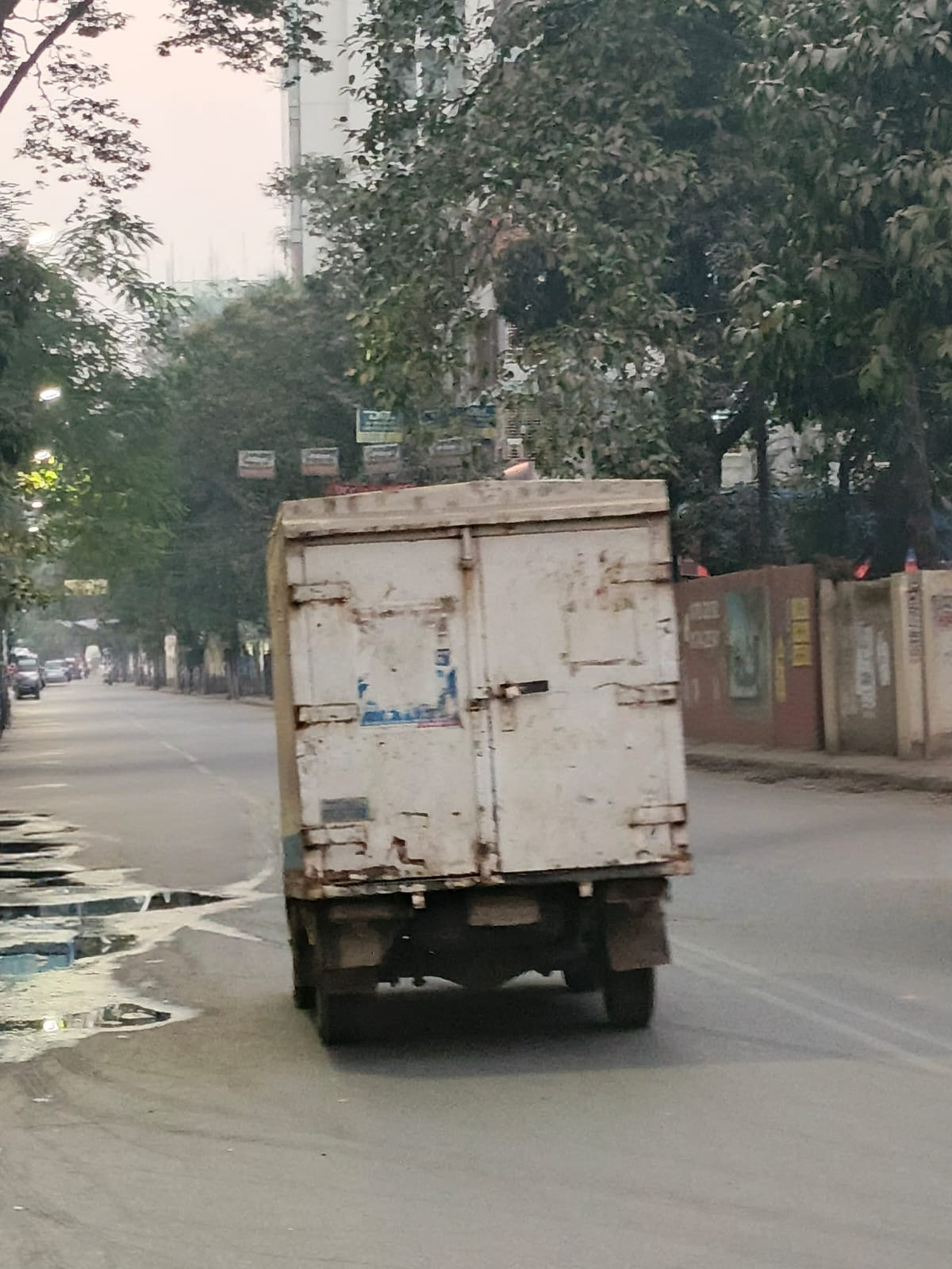Pickup: (247, 454, 699, 1062)
